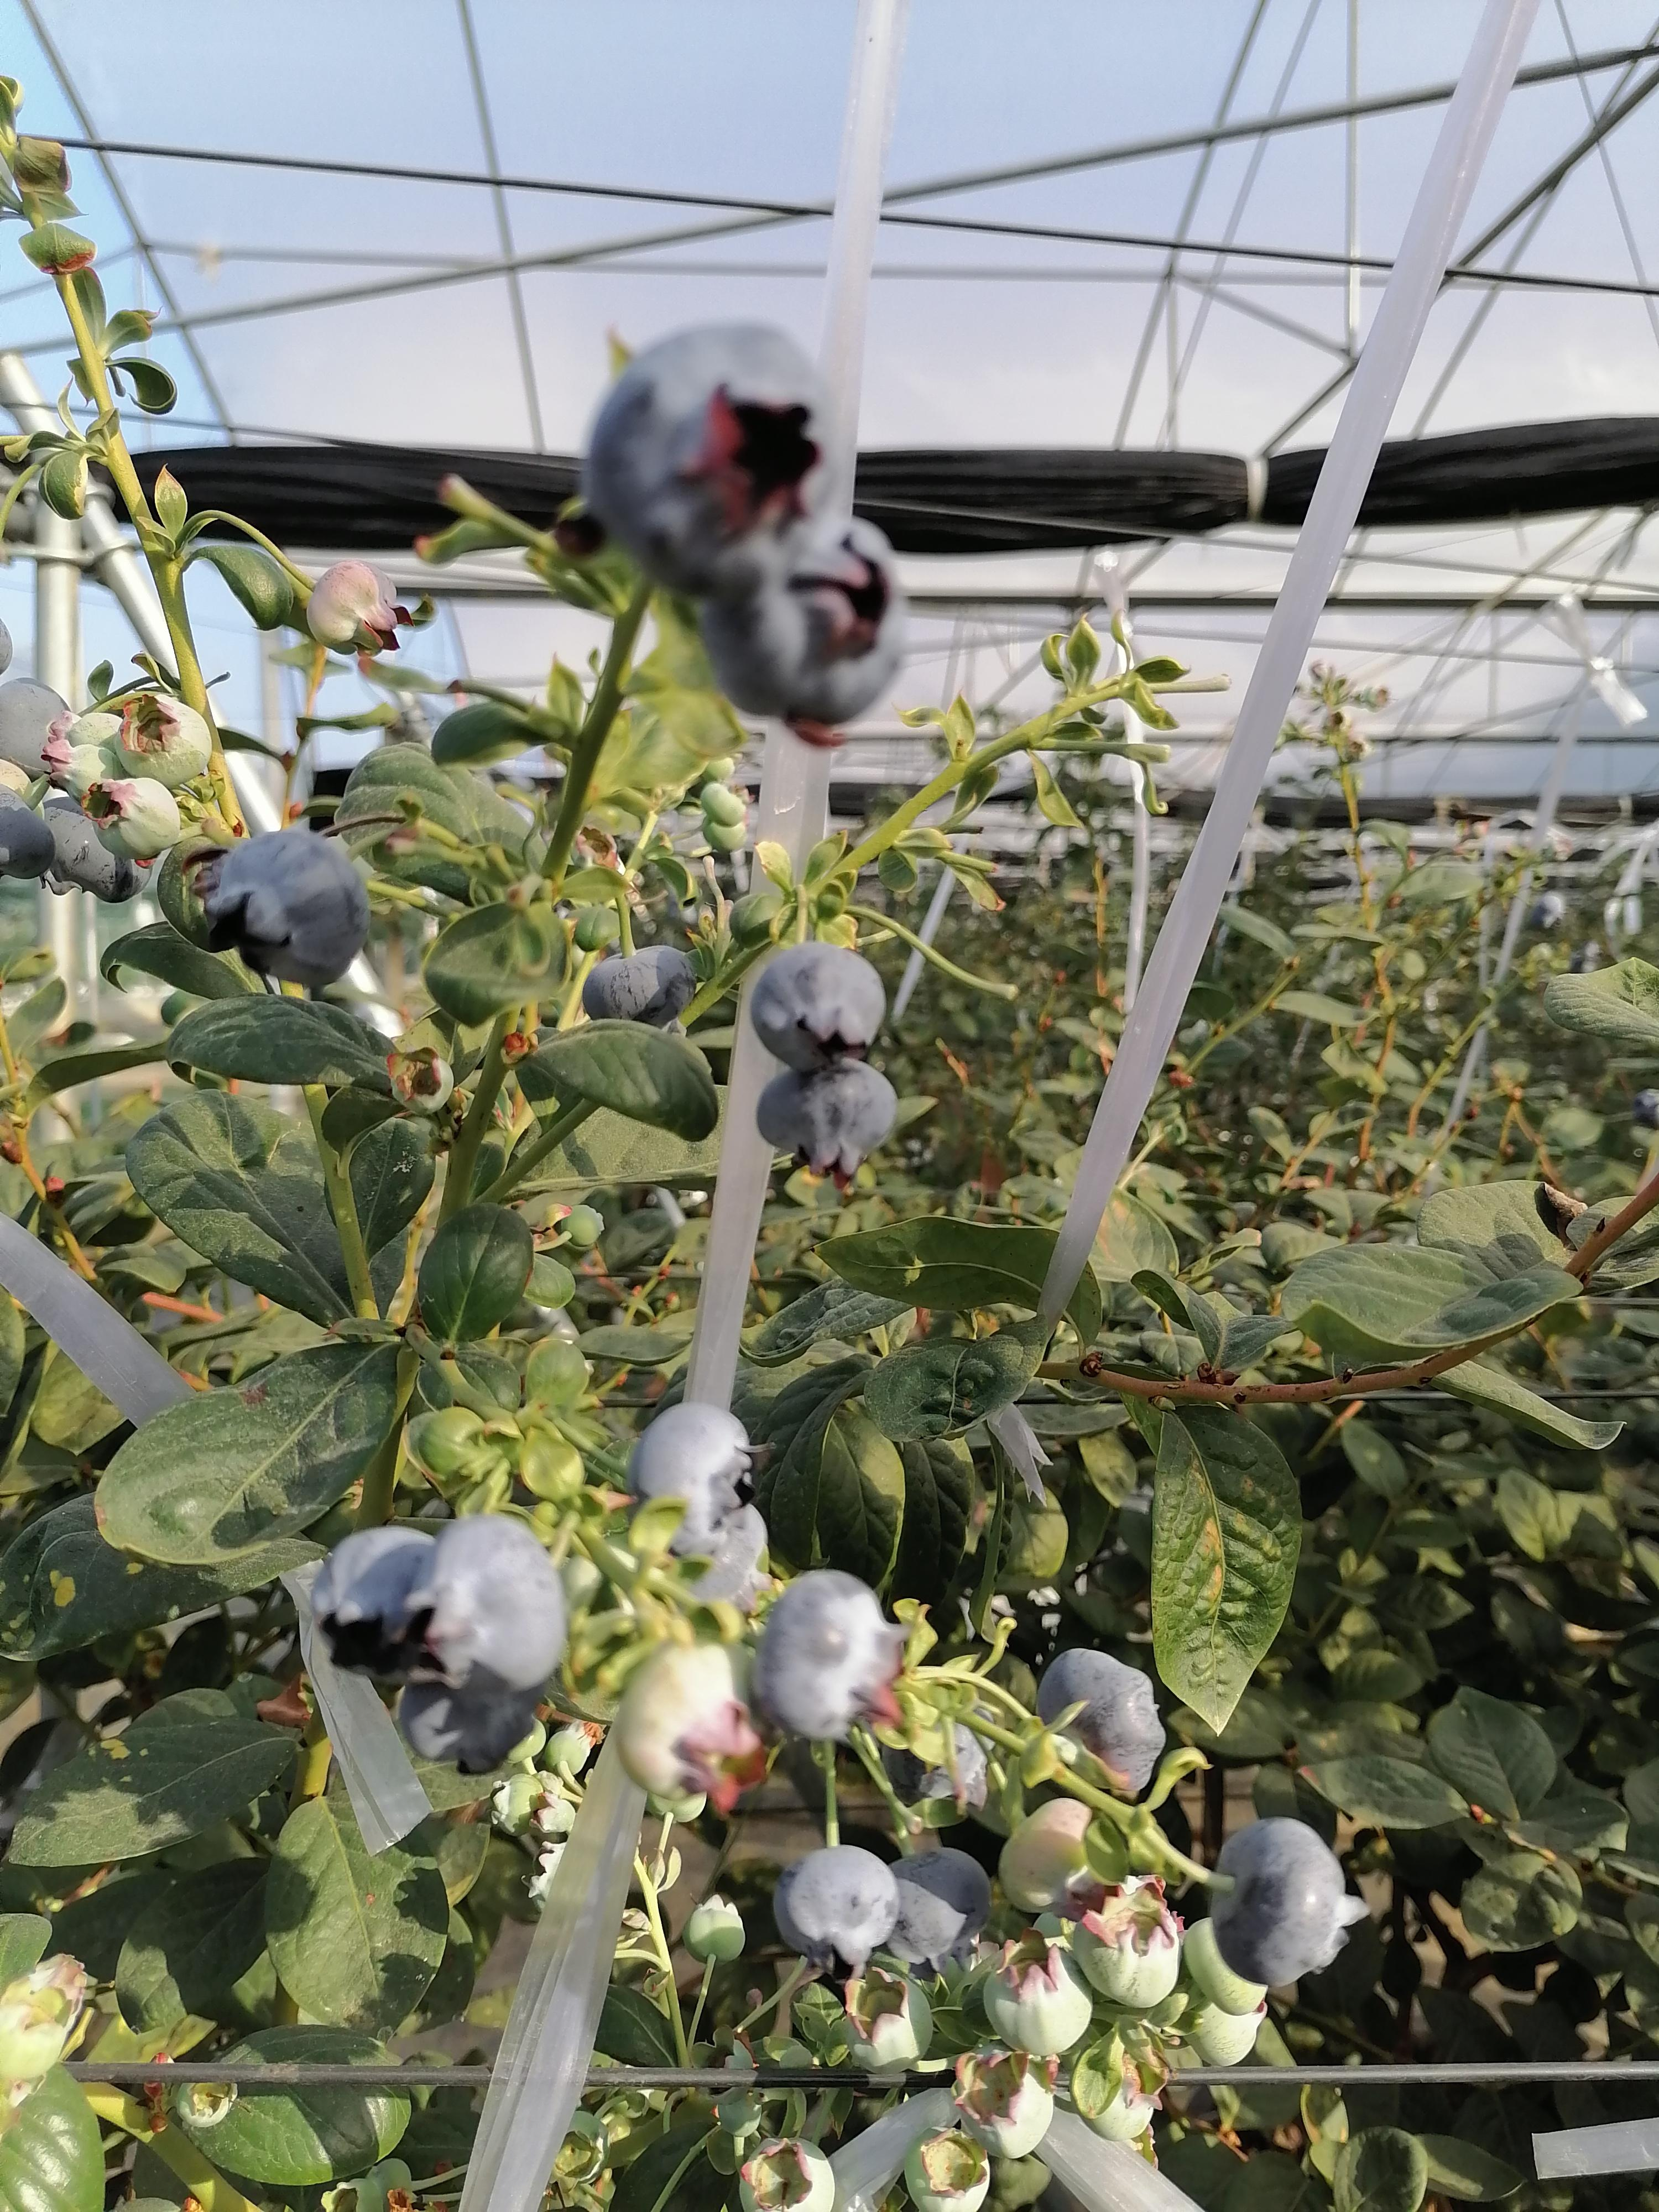ripe-blueberries: (584, 324, 849, 604), (699, 519, 913, 728), (385, 1512, 570, 1700), (749, 1568, 911, 1743), (1211, 1817, 1370, 1989), (206, 829, 371, 986), (624, 1399, 774, 1561), (307, 1526, 443, 1688), (1037, 1646, 1166, 1792), (753, 941, 887, 1080), (755, 1064, 899, 1191), (772, 1843, 901, 1982), (885, 1846, 993, 1979), (397, 1684, 545, 1778), (42, 796, 152, 902), (673, 1505, 772, 1618), (582, 944, 697, 1031), (0, 678, 71, 773), (2, 782, 56, 880)
